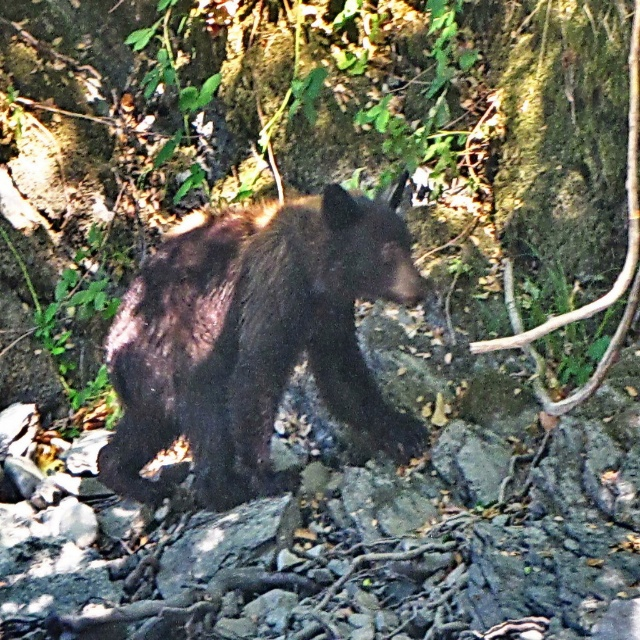Brown bear: (94, 168, 430, 516)
